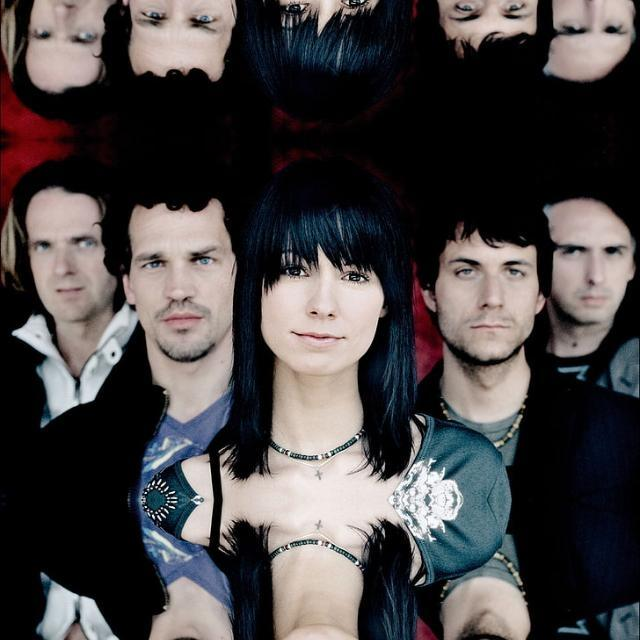person: (241, 193, 385, 447), (412, 196, 550, 420), (117, 181, 239, 393), (10, 153, 126, 343), (540, 190, 634, 378), (10, 0, 126, 125), (241, 552, 385, 640), (241, 0, 385, 85), (117, 0, 239, 97), (411, 0, 550, 82), (411, 577, 550, 640), (540, 0, 633, 87), (117, 605, 239, 640), (540, 621, 633, 640)
